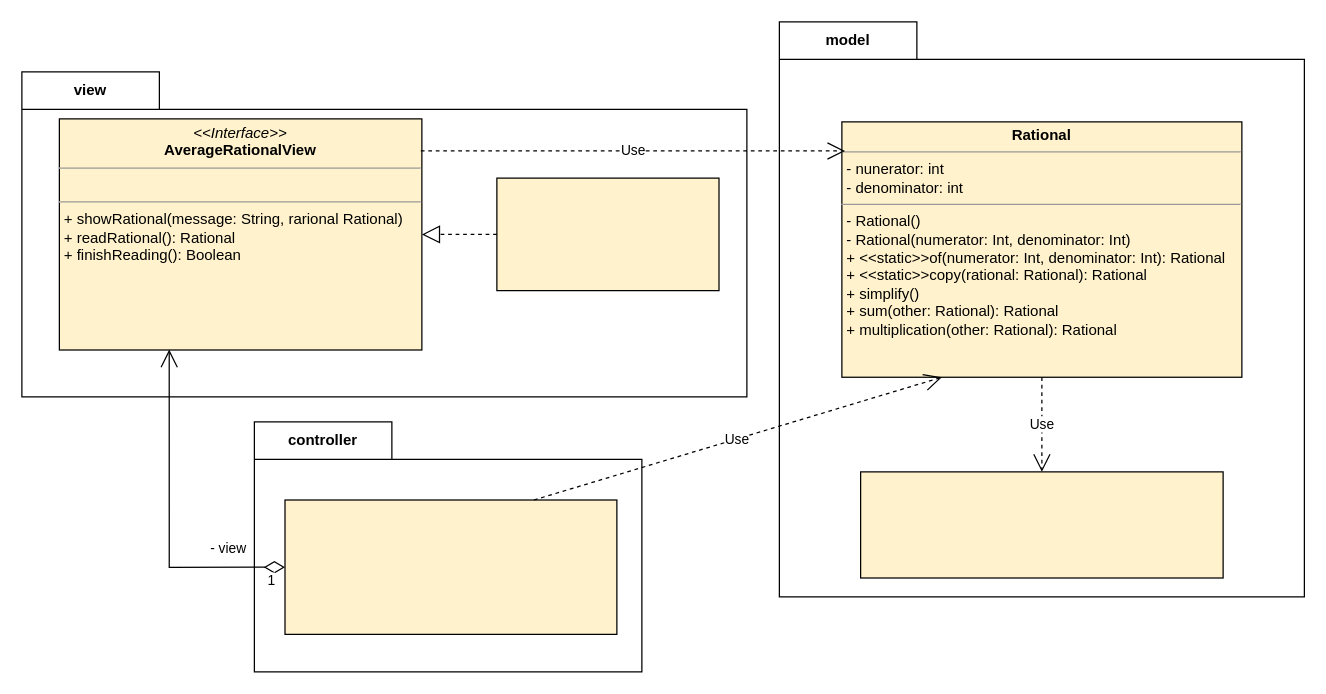
The diagram is 1326 pixels wide and 694 high, and some of its shapes have lost their labels. The centre of each missing label's shape, as x and y in pixels:
AveraRationalViewImpl - scanner: Scanner + AverageRationalViewImpl(): (607,234)
Controller + Controller(view: AverageRationalView) + average(): (450,566)
RationalUtil + <<static>> mdc (value_1: Int, value_2: Int): Int: (1041,524)
